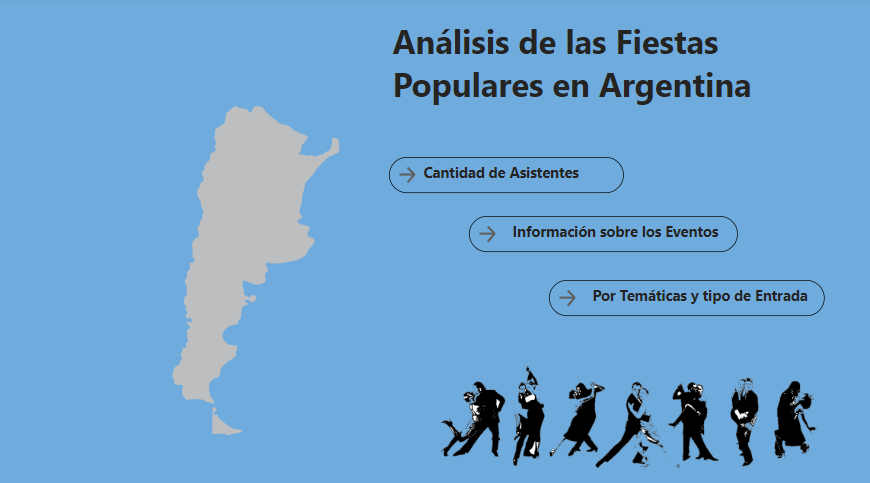

What the dashboard file says about the page in this screenshot:
{"tool":"powerbi","page":{"name":"Portada","canvas":[1280,720],"ordinal":0},"visuals":[{"type":"image","box":[0,83.8,753.8,636.2],"z":0},{"type":"actionButton","box":[573.1,235.1,345.3,52.9],"z":1000},{"type":"textbox","box":[618.6,238,270.4,50],"z":2000},{"type":"textbox","box":[748.7,324.5,334.2,50],"z":3000},{"type":"textbox","box":[866.2,418.9,341.1,50],"z":4000},{"type":"actionButton","box":[690.1,321.1,394.5,53.4],"z":5000},{"type":"actionButton","box":[807.7,415.5,404.8,53.4],"z":6000},{"type":"textbox","box":[573.1,26.4,555.4,207.2],"z":7000},{"type":"image","box":[640.7,512.8,568.7,207.2],"z":8000}]}

Visuals, with their boxes in screenshot pixels (x1, y1, x2, y2), scaled from the page's 1280x720 canvas onto the 870x483 screenshot:
image: <region>0, 56, 512, 482</region>
actionButton: <region>390, 158, 624, 193</region>
textbox: <region>420, 160, 604, 193</region>
textbox: <region>509, 218, 736, 251</region>
textbox: <region>589, 281, 821, 315</region>
actionButton: <region>469, 215, 737, 251</region>
actionButton: <region>549, 279, 824, 315</region>
textbox: <region>390, 18, 767, 157</region>
image: <region>435, 344, 822, 482</region>
